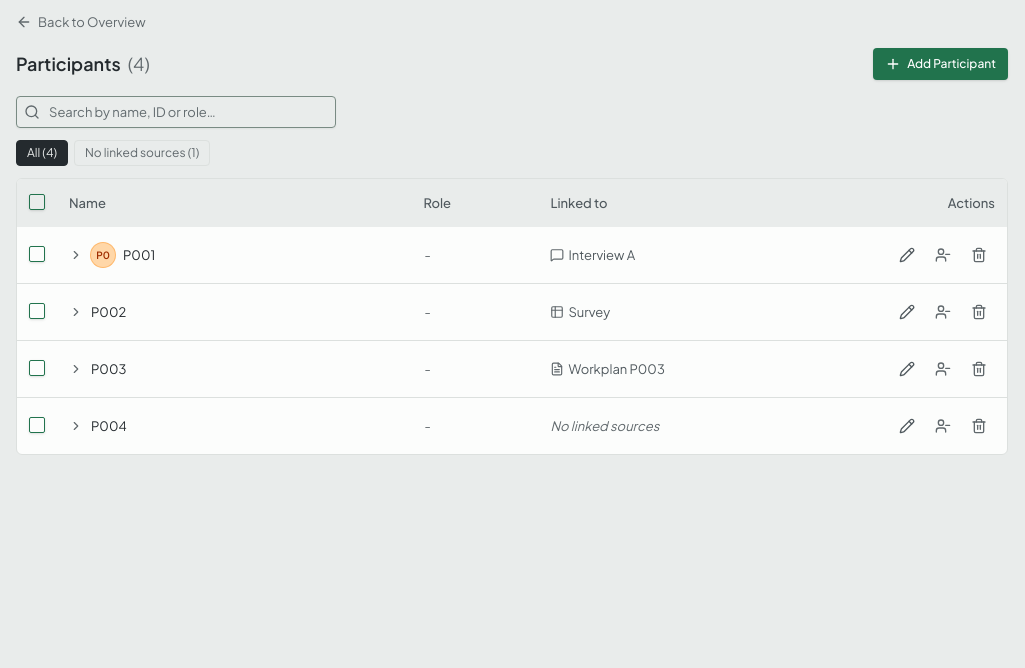
#1110 — a document can be about a participant › the panel lists the documents about them, and its report is not "nothing else"
Expected: the text "P003" is shown, [91,359,126,379]
Click the text "P003". click: (512, 369)
box: [17,340,1007,398]
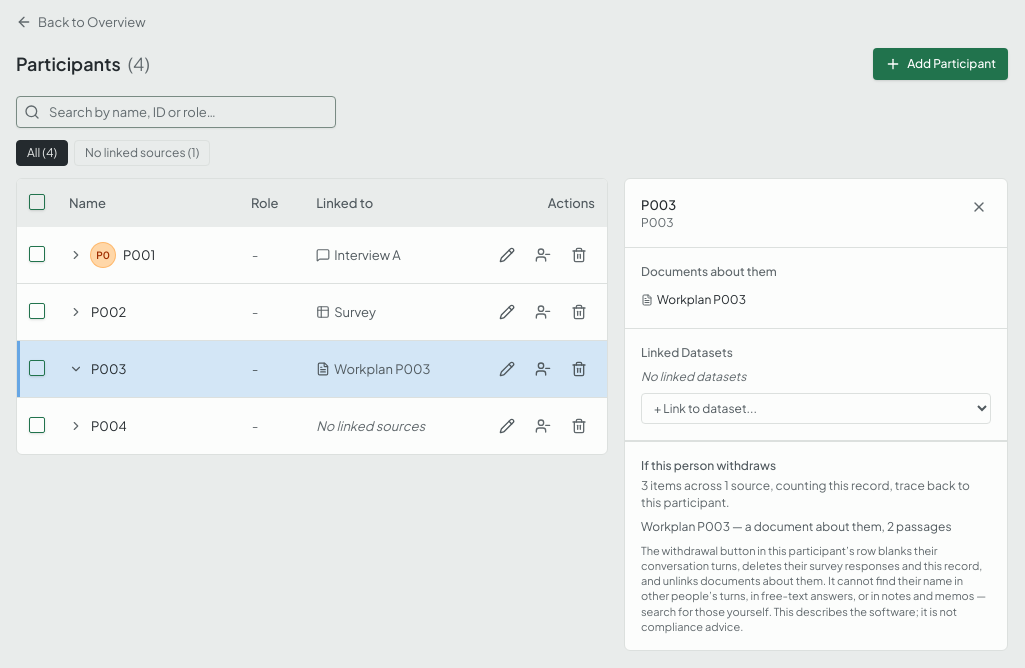
Expected: the list item "Workplan P003 — a document about them, 2 passages" is shown, [641,519,991,535]
